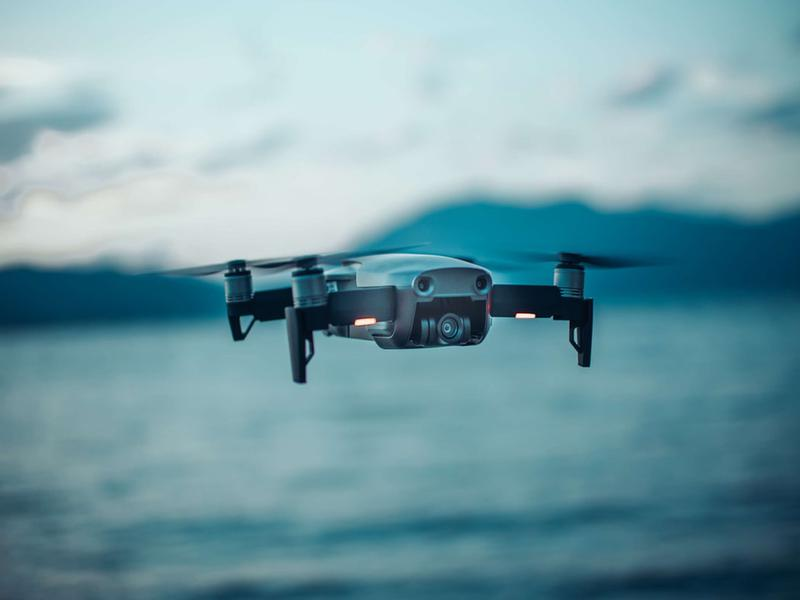enemy: (224, 248, 596, 379)
